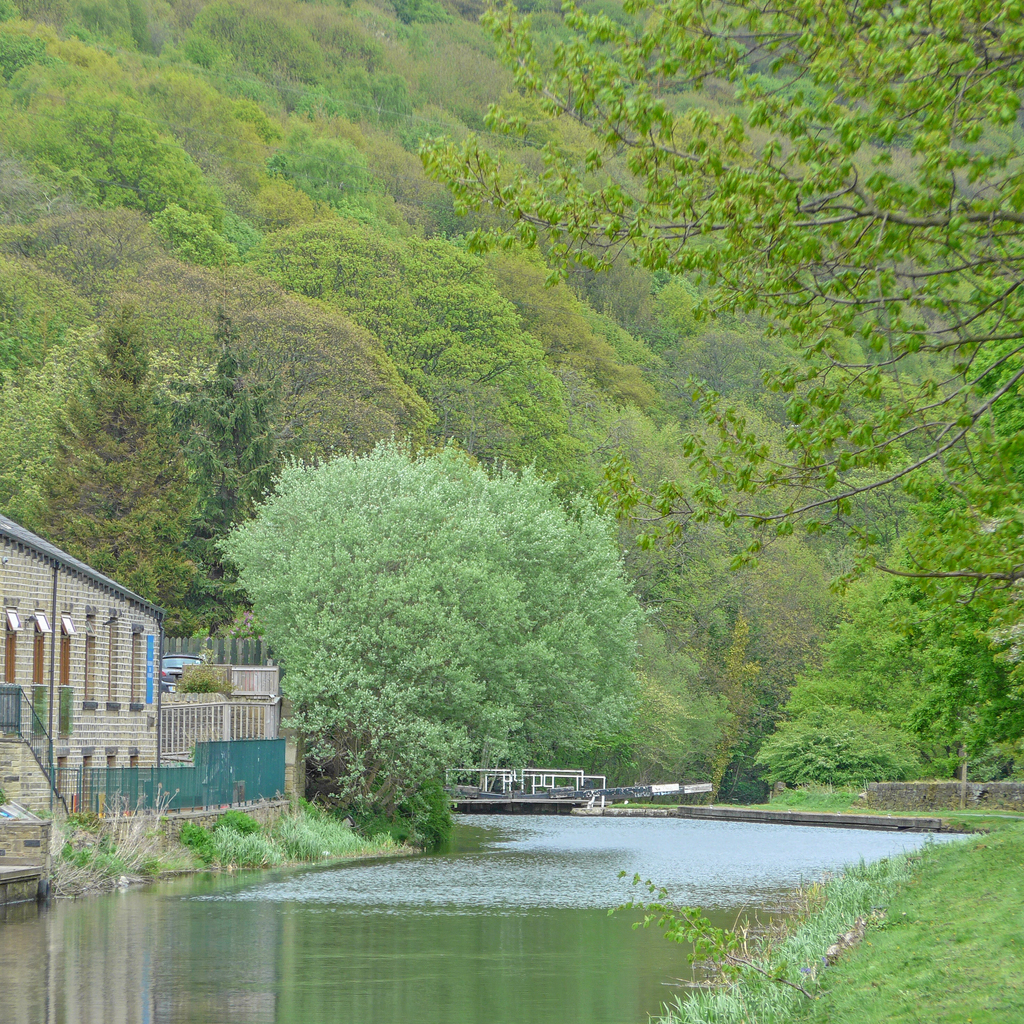Tree: (420, 0, 1023, 791), (0, 0, 420, 632), (216, 386, 557, 853)
